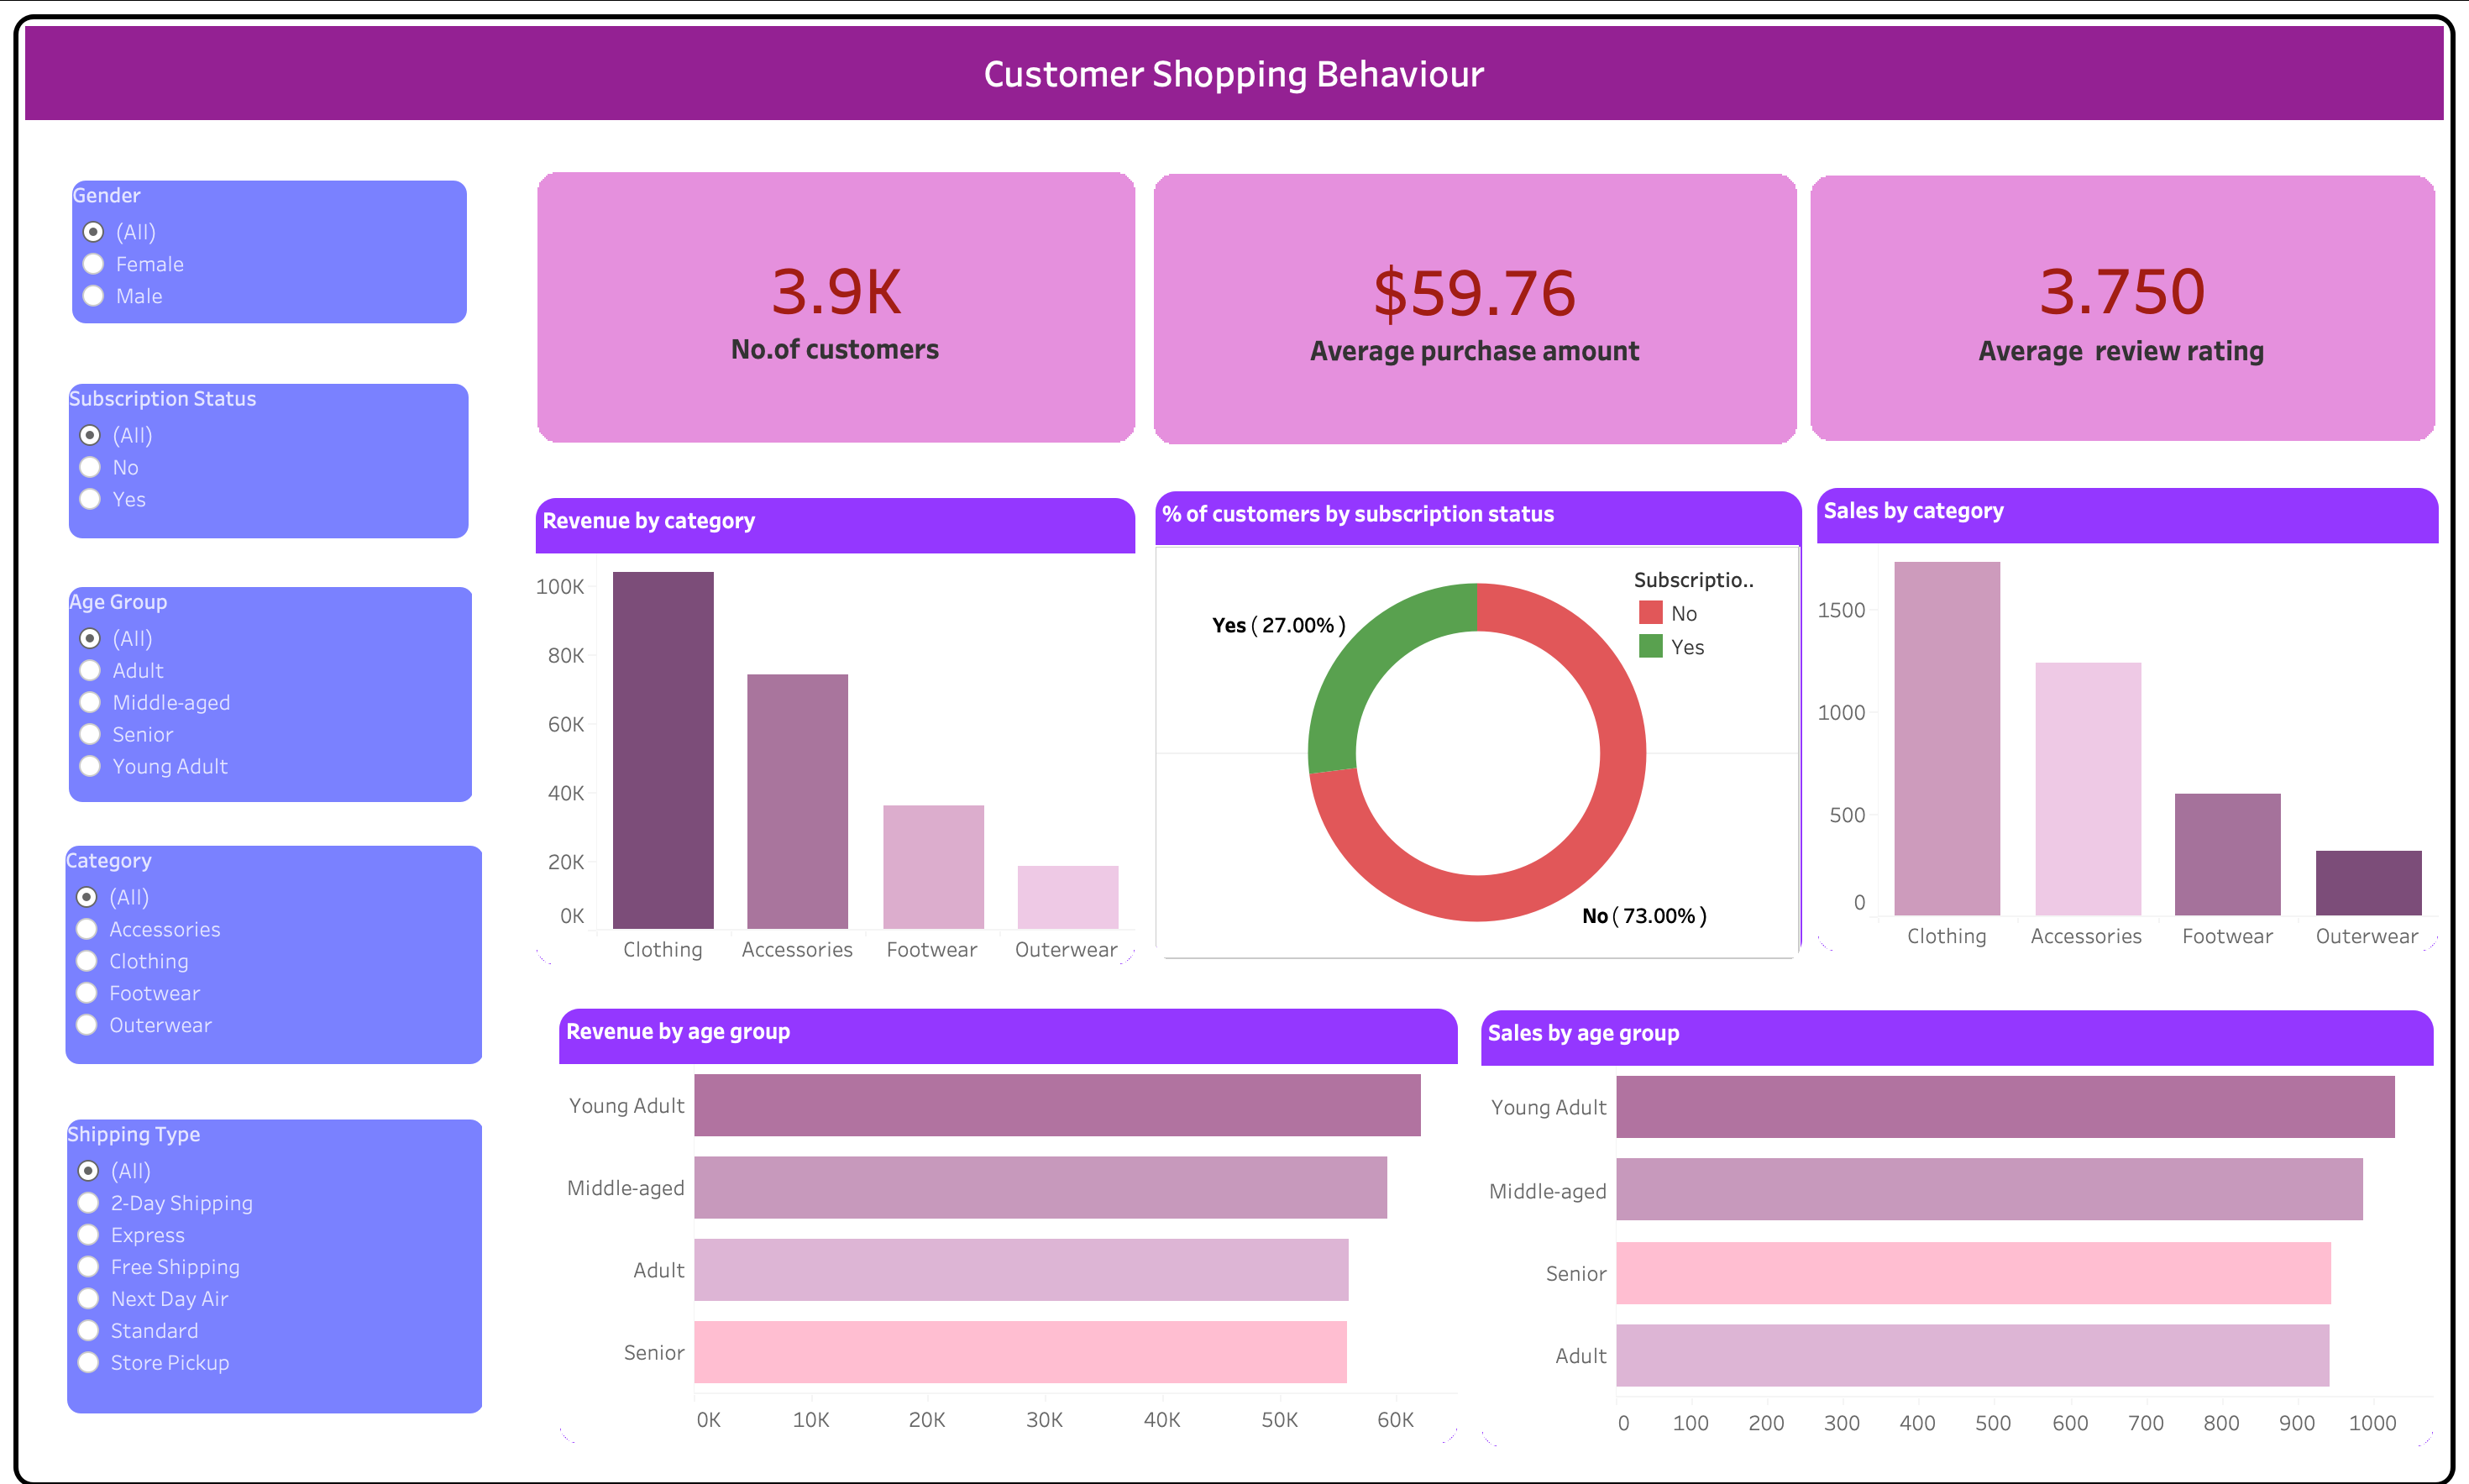

The dashboard page shown, as its layout file describes it:
{"tool":"tableau","page":{"name":"Dashboard 1","canvas":[1000,1000],"units":"permille","ordinal":0},"visuals":[{"type":"text","box":[8.7,13.2,982.5,77]},{"type":"worksheet","title":"Sheet 1","mark":"Automatic","box":[217.6,114.3,242.3,180.5]},{"type":"worksheet","title":"Sheet 2","mark":"Automatic","box":[467,115.5,260.5,180.5]},{"type":"worksheet","title":"Sheet 3","mark":"Automatic","box":[733.1,116.7,253.4,176.9]},{"type":"filter","title":"Sheet 1","param":"[federated.1e9u7qq194uu5z12subrw1ctd4q3].[none:gender:nk]","box":[29.4,120.3,159.7,95.1]},{"type":"filter","title":"Sheet 4","param":"[federated.1e9u7qq194uu5z12subrw1ctd4q3].[none:subscription_status:nk]","box":[27.8,255.1,162,103.5]},{"type":"worksheet","title":"Sheet 6","mark":"Automatic","rows":["customer_id"],"cols":["category"],"box":[736.3,324.9,251.8,309.3]},{"type":"worksheet","title":"Sheet 4","mark":"Circle","rows":["Calculation_4738476752388097","Calculation_4738476752388097"],"box":[467.8,327.3,262.1,312.9]},{"type":"worksheet","title":"Sheet 5","mark":"Automatic","rows":["purchase_amount"],"cols":["category"],"box":[216.8,330.9,243.1,311.7]},{"type":"legend","title":"Sheet 4","param":"[federated.1e9u7qq194uu5z12subrw1ctd4q3].[none:subscription_status:nk]","box":[661.6,376.7,50,67.4]},{"type":"filter","title":"Sheet 7","param":"[federated.1e9u7qq194uu5z12subrw1ctd4q3].[none:age_group:nk]","box":[27.8,391.1,163.6,143.2]},{"type":"filter","title":"Sheet 5","param":"[federated.1e9u7qq194uu5z12subrw1ctd4q3].[none:category:nk]","box":[26.2,563.2,169.2,145.6]},{"type":"worksheet","title":"Sheet 7","mark":"Automatic","rows":["age_group"],"cols":["purchase_amount"],"box":[226.4,671.5,363.8,290]},{"type":"worksheet","title":"Sheet 8","mark":"Automatic","rows":["age_group"],"cols":["customer_id"],"box":[599.7,672.7,386,291.2]},{"type":"filter","title":"Sheet 2","param":"[federated.1e9u7qq194uu5z12subrw1ctd4q3].[none:shipping_type:nk]","box":[27,746.1,168.4,196.2]}]}

Visuals, with their boxes on the dashboard's canvas, which has no fixed pixel size, in thousandths of its width and height (x1, y1, x2, y2). These are canvas units, not pixel positions in the 2469x1484 screenshot, which may show the page scaled, cropped or inside an application window:
text: bbox(9, 13, 991, 90)
"Sheet 1" worksheet: bbox(218, 114, 460, 295)
"Sheet 2" worksheet: bbox(467, 116, 728, 296)
"Sheet 3" worksheet: bbox(733, 117, 986, 294)
"Sheet 1" filter: bbox(29, 120, 189, 215)
"Sheet 4" filter: bbox(28, 255, 190, 359)
"Sheet 6" worksheet: bbox(736, 325, 988, 634)
"Sheet 4" worksheet (Circle marks): bbox(468, 327, 730, 640)
"Sheet 5" worksheet: bbox(217, 331, 460, 643)
"Sheet 4" legend: bbox(662, 377, 712, 444)
"Sheet 7" filter: bbox(28, 391, 191, 534)
"Sheet 5" filter: bbox(26, 563, 195, 709)
"Sheet 7" worksheet: bbox(226, 672, 590, 962)
"Sheet 8" worksheet: bbox(600, 673, 986, 964)
"Sheet 2" filter: bbox(27, 746, 195, 942)
